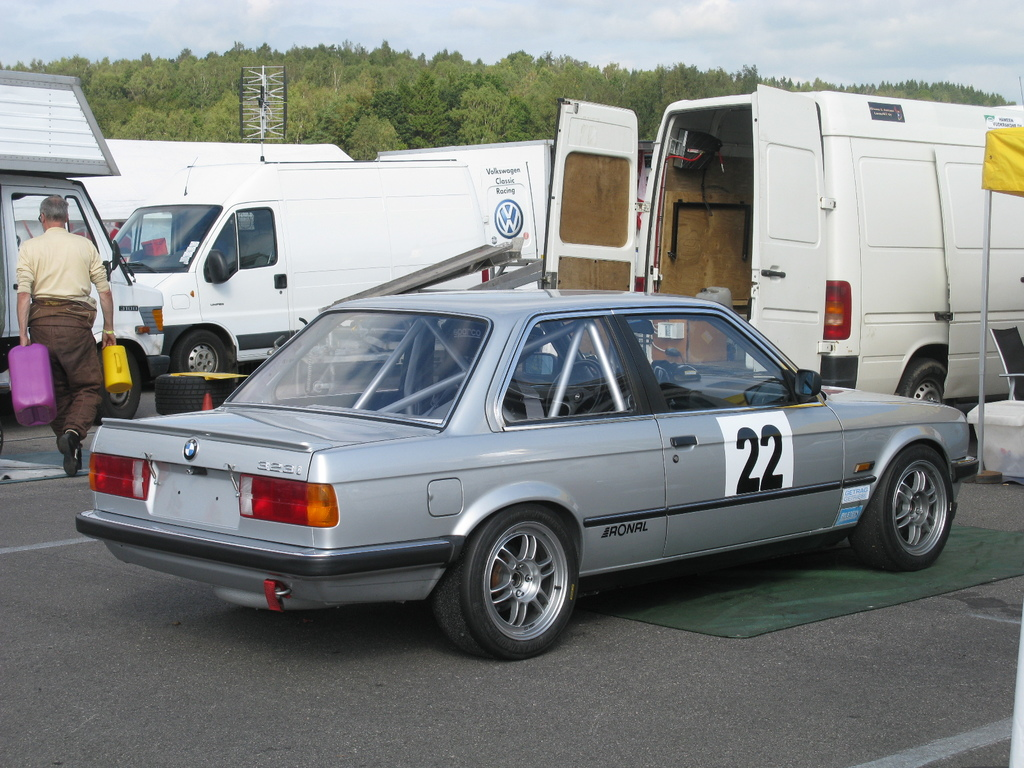Car: (74, 292, 968, 656)
